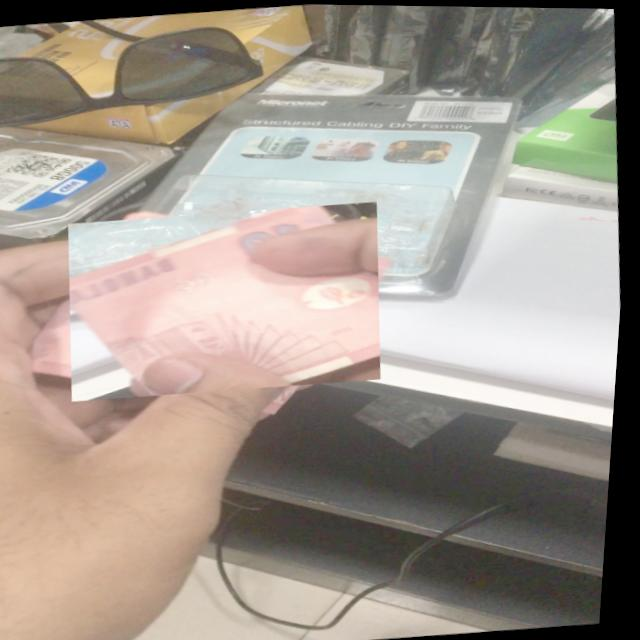Taka: (62, 196, 395, 404)
